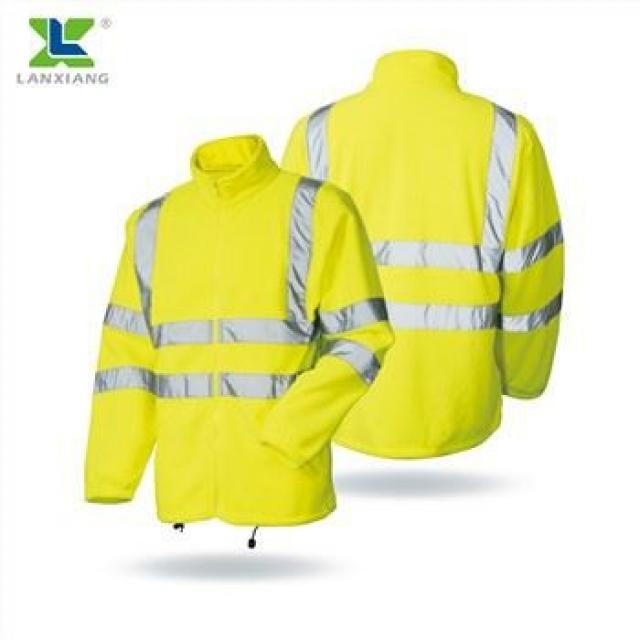Reflective-Jacket: (283, 65, 576, 462), (77, 161, 393, 523)
